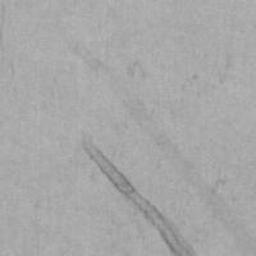Water spot: (68, 41, 256, 256), (84, 136, 201, 256)
